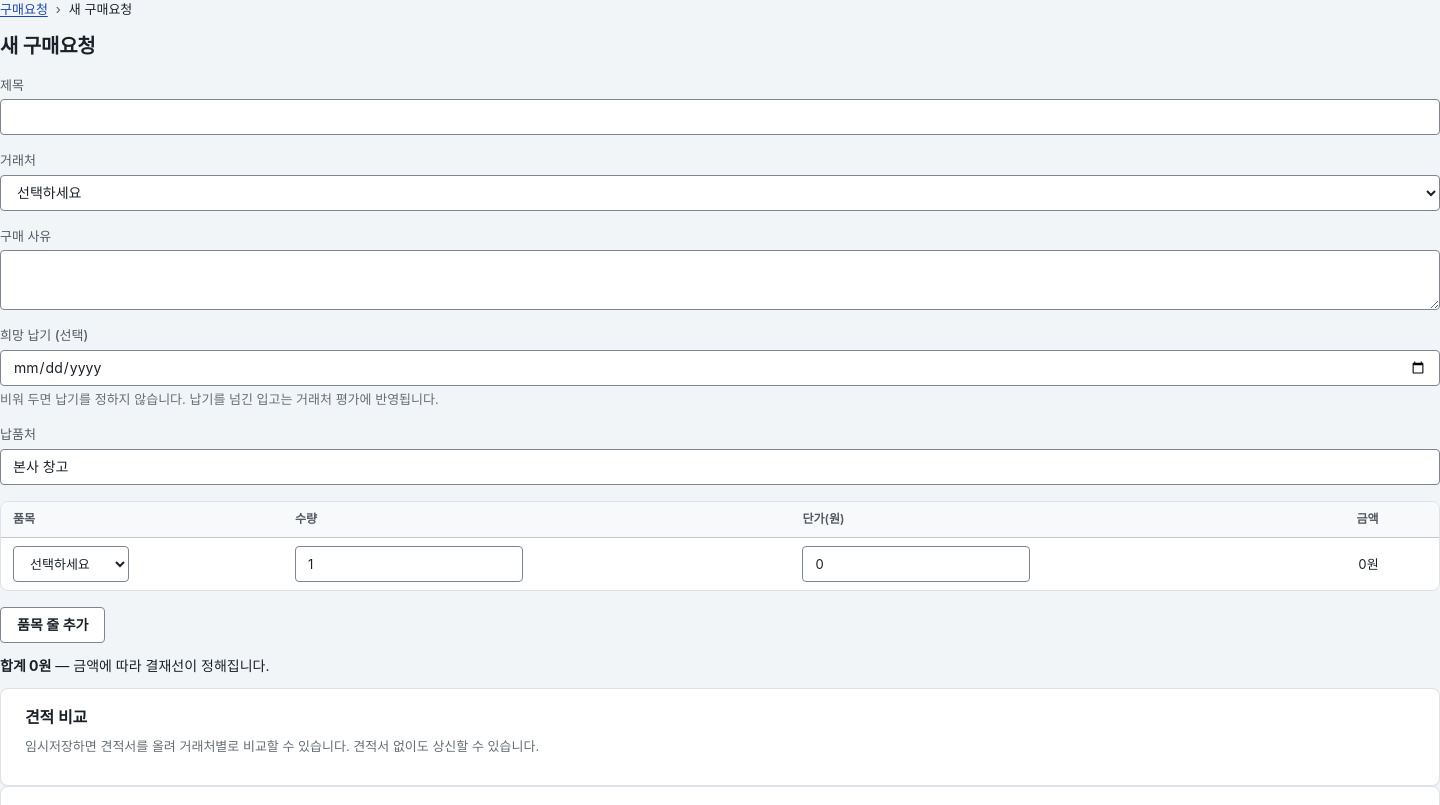
Test: 구매요청 작성 화면의 결재선 미리보기 연동(AC-60·62) › 금액을 넣으면 미리보기가 갱신되고, 결재선을 만들 수 없으면 '저장 후 상신' 이 꺼진다
Select "볼트 (BOLT)" in the dropdown named "1번째 줄 품목" at (71, 564), box 13,546 -> 129,582
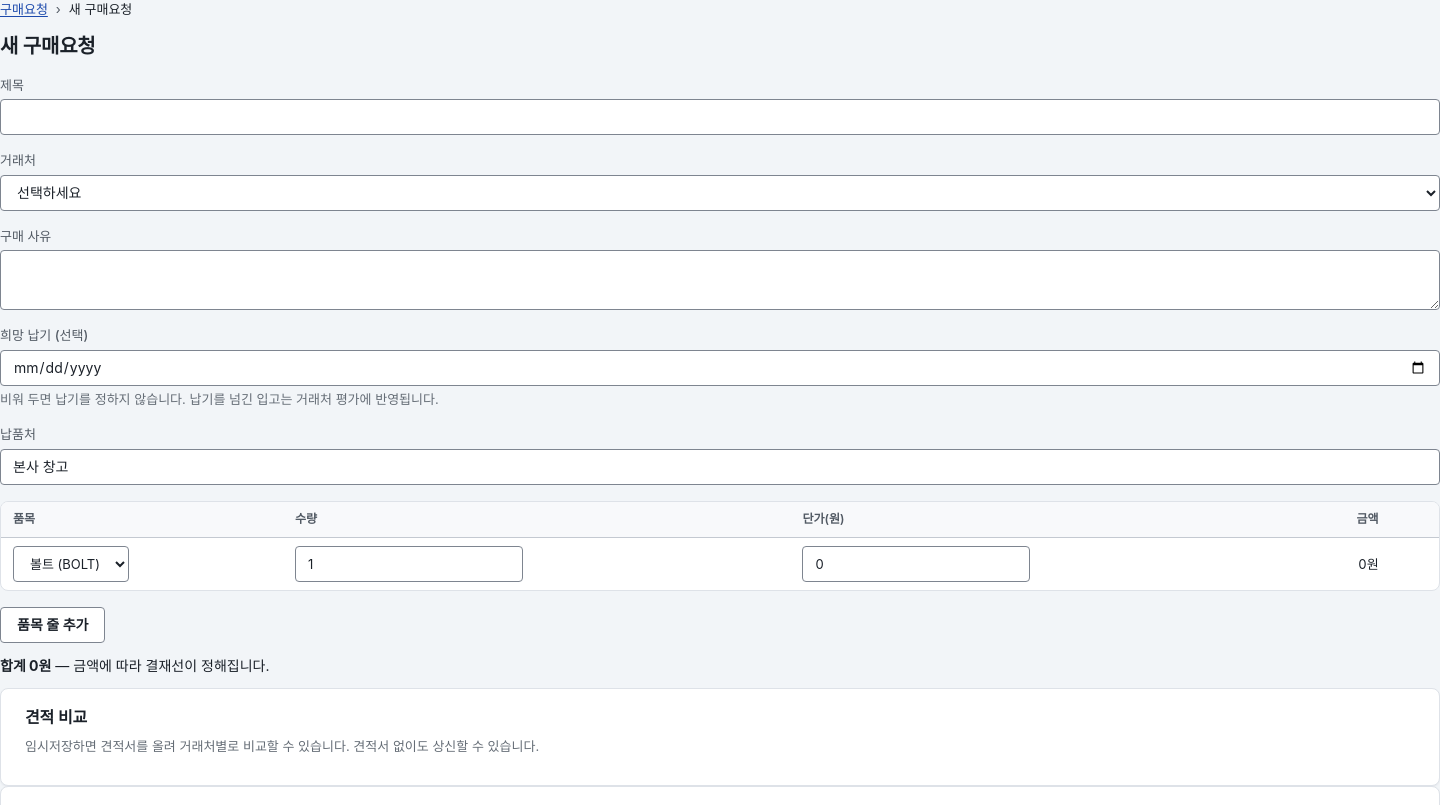
Replace the text in the field named "1번째 줄 단가" with "500000" at (916, 564), box 802,546 -> 1030,582
(page scrolled)
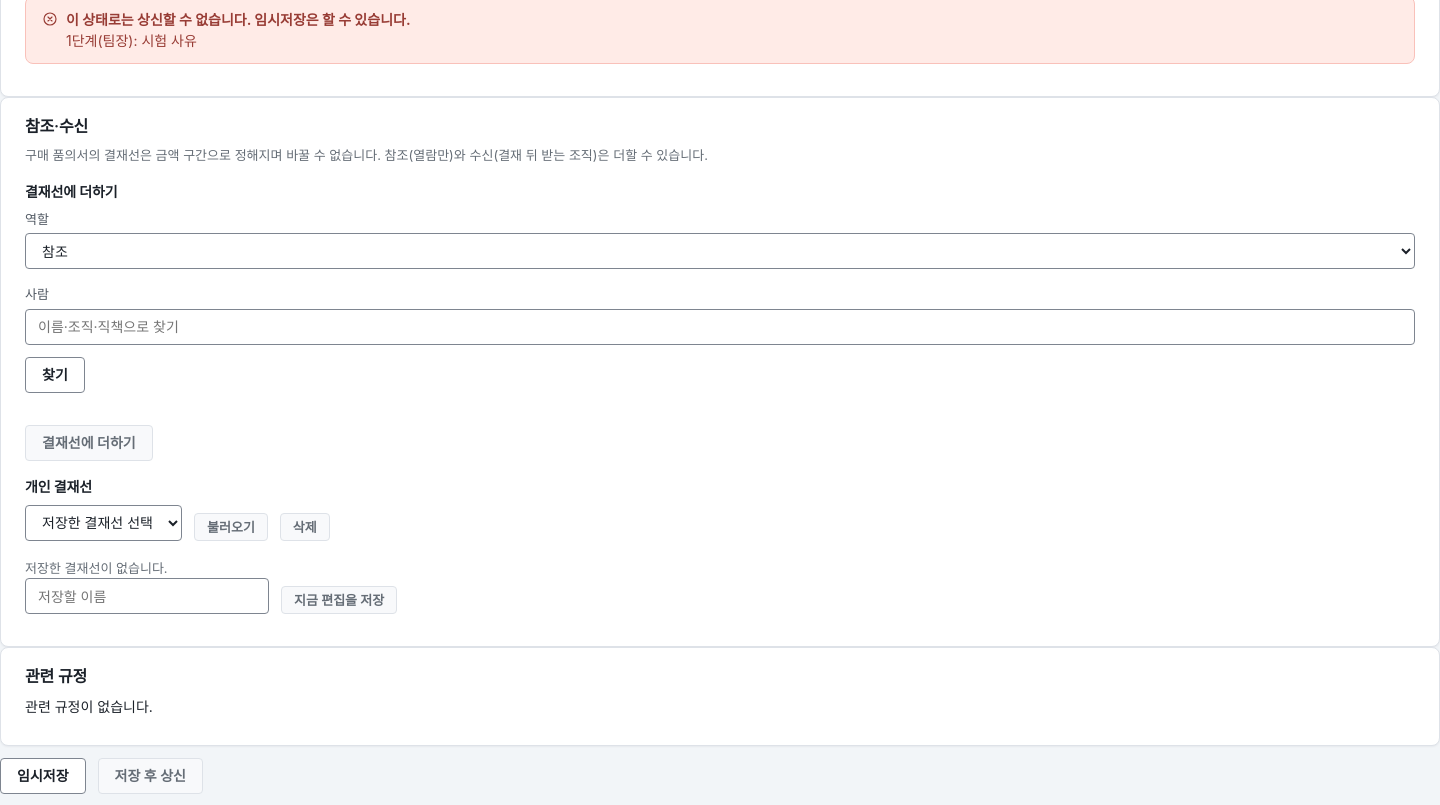
Check: the button "임시저장" is enabled, box 0,758 -> 86,794
Check: the text "1단계(팀장): 시험 사유" is shown, box 66,32 -> 197,49
Check: the button "저장 후 상신" is disabled, box 98,758 -> 203,794
